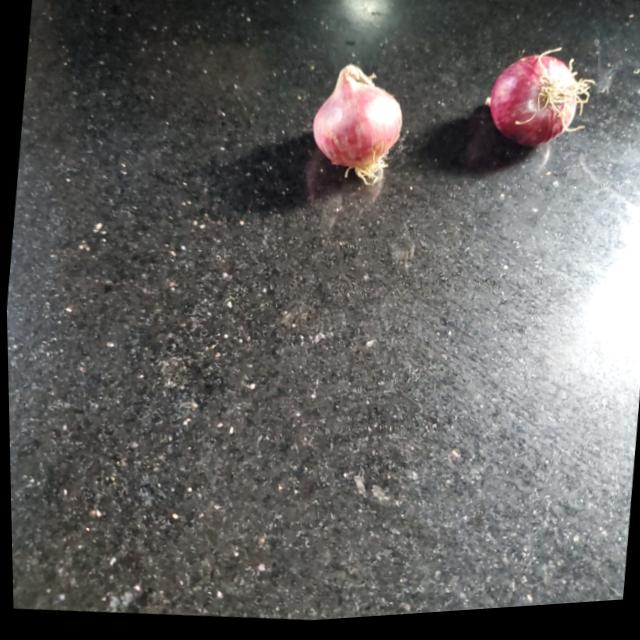onion: (305, 65, 409, 191), (482, 54, 583, 161)
